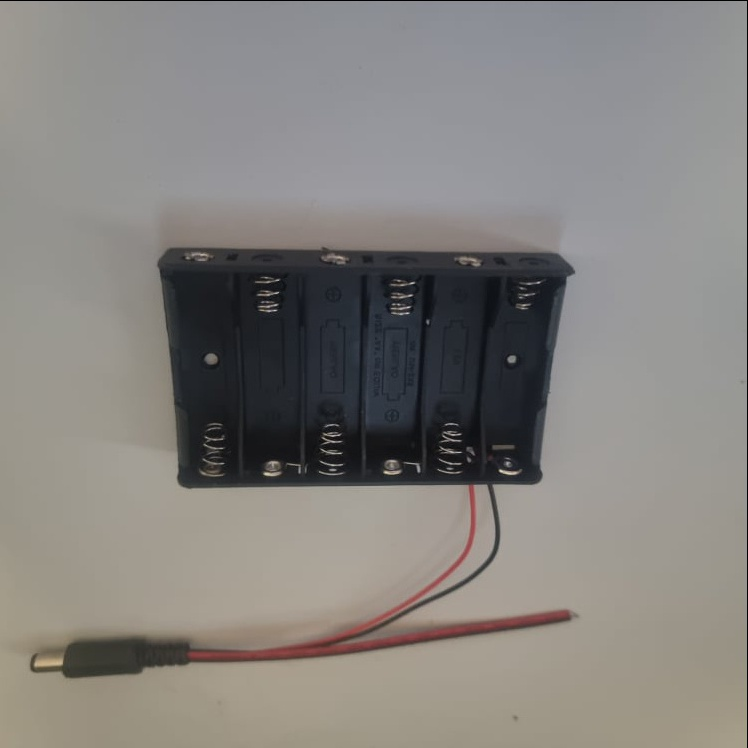BATTERY BOX: (161, 243, 578, 489)
